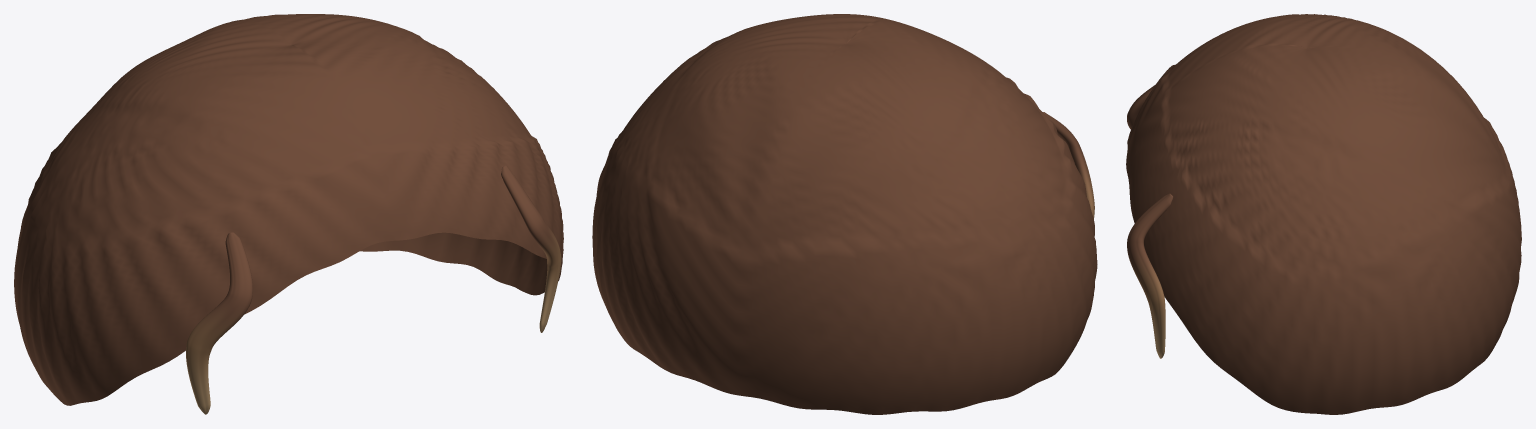
Rendered from Ombre-a54081eb2144253-hair.glb.
3 views of the same model, side by side, from view 1: azimuth 30°, elevation 25°; view 2: azimuth 150°, elevation 25°; view 3: azimuth 270°, elevation 25° (orthographic). The views are drawn at different scales.
Parts seen in each view (by area): view 1: 226 hair / Hair / chestnut226.001; view 2: 226 hair / Hair / chestnut226.001; view 3: 226 hair / Hair / chestnut226.001.
Part boxes in pixels (x1,y1,x2,y2): 226 hair / Hair / chestnut226.001: (14,14,563,414); 226 hair / Hair / chestnut226.001: (592,14,1097,414); 226 hair / Hair / chestnut226.001: (1126,14,1521,414).
Bounding box in the file's own units: 0.9988 × 0.599 × 0.7845.
Materials: 1 (1 with a texture image).
